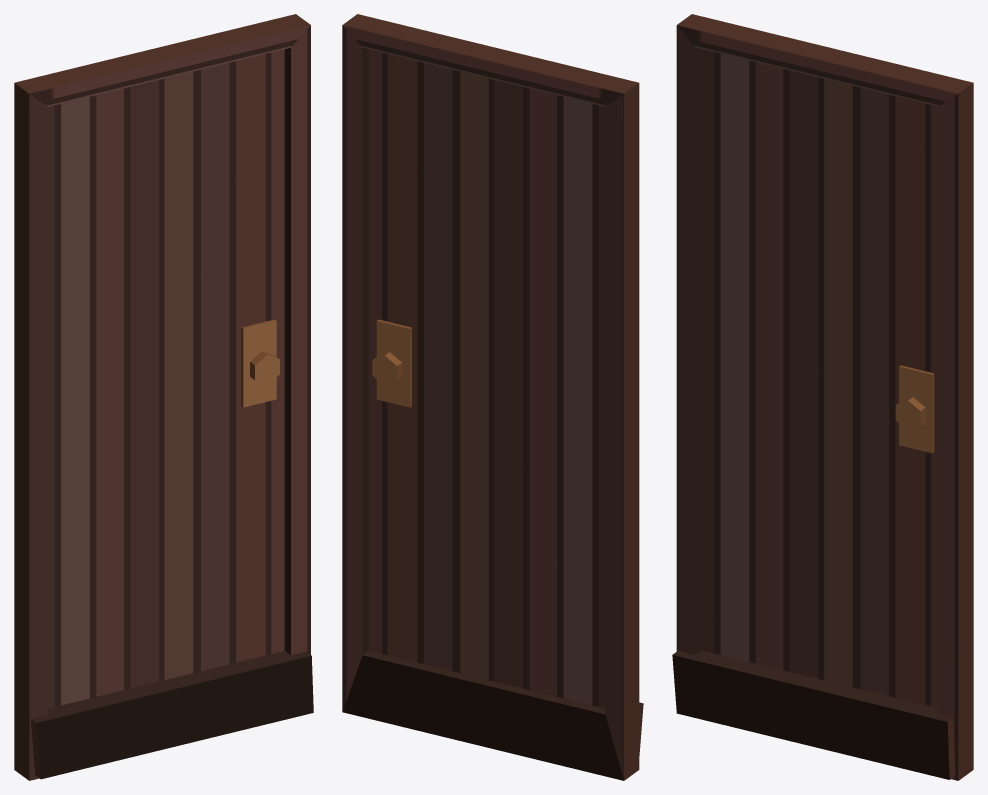
The model's file is Door 2.glb.
3 renders of one model, left to right at view 1: azimuth 30°, elevation 25°; view 2: azimuth 150°, elevation 25°; view 3: azimuth 330°, elevation 25°, orthographic.
Visible parts, largest first — view 1: Door 2A; view 2: Door 2A; view 3: Door 2A.
Part boxes in pixels (x1,y1,x2,y2): Door 2A: (14,14,313,780); Door 2A: (342,14,643,780); Door 2A: (672,14,973,780).
Size of what is drawn, in the model's own units: 0.9761 by 2.27 by 0.1529.
Materials: 2 (2 with a texture image).
